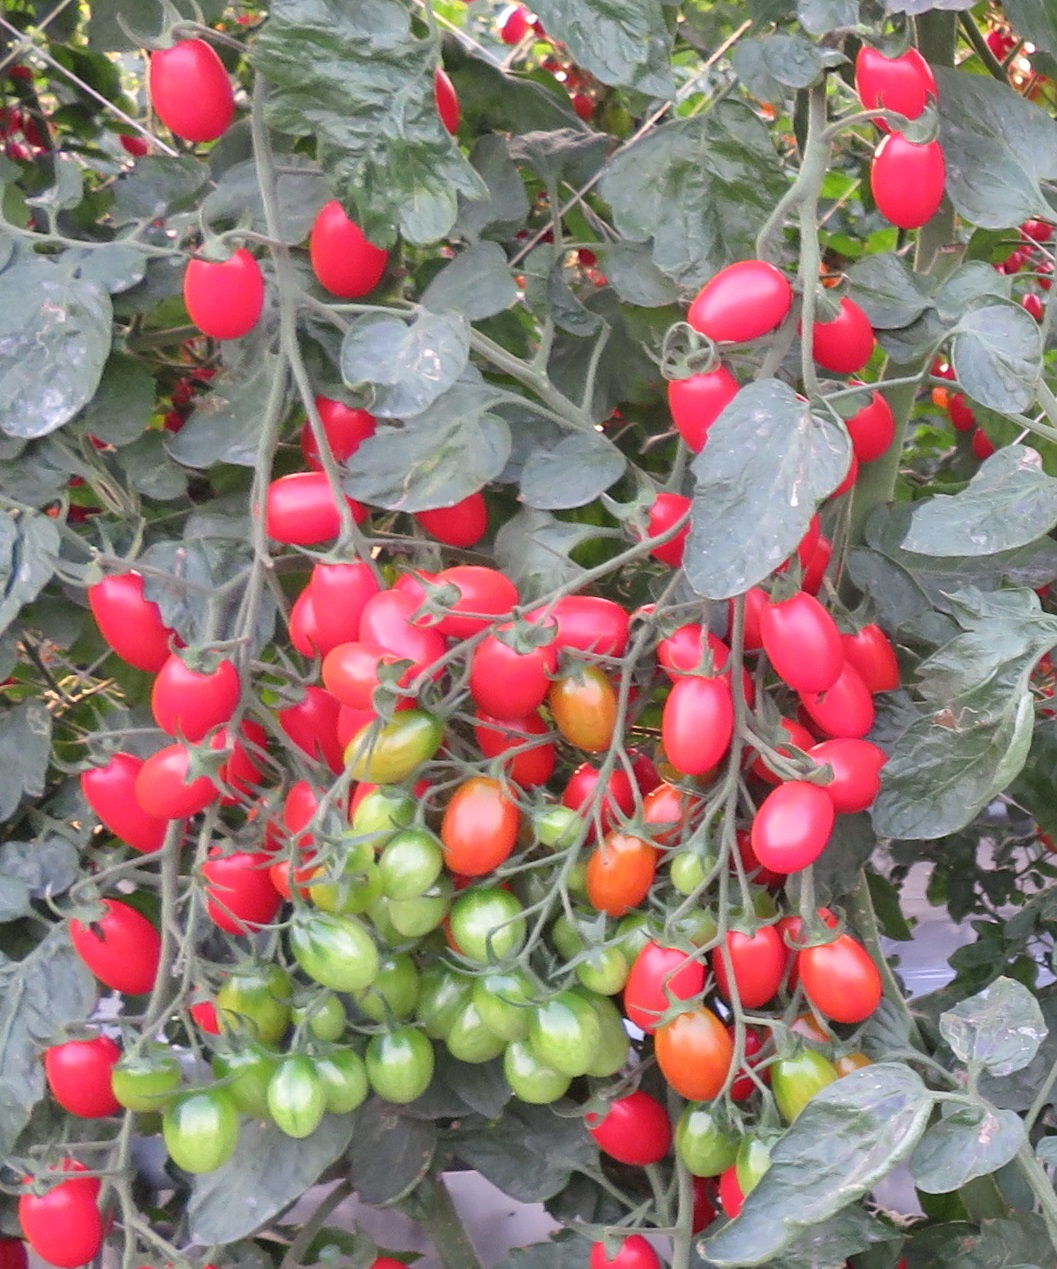green: (341, 711, 451, 789), (291, 921, 392, 990), (444, 889, 524, 967), (167, 1098, 238, 1182), (772, 1052, 846, 1122), (366, 1027, 432, 1105), (267, 1060, 320, 1144), (372, 842, 436, 909), (469, 971, 530, 1038), (111, 1059, 175, 1119), (534, 992, 583, 1071), (679, 1110, 728, 1179), (351, 796, 412, 850), (442, 1000, 492, 1059), (504, 1040, 550, 1102), (321, 1054, 367, 1117), (384, 896, 449, 931), (528, 804, 580, 846), (582, 952, 630, 994), (294, 993, 341, 1034), (669, 861, 722, 898)
orange: (787, 934, 890, 1023), (650, 1010, 733, 1105), (450, 769, 517, 875), (311, 631, 397, 710), (716, 929, 788, 1007), (591, 842, 653, 921), (557, 676, 621, 751), (637, 785, 707, 840)
red: (86, 559, 182, 673), (154, 32, 240, 150), (180, 236, 269, 343), (865, 126, 953, 234), (686, 256, 795, 341), (70, 900, 163, 997), (130, 738, 234, 822), (17, 1164, 109, 1260), (759, 585, 842, 690), (307, 190, 390, 294), (146, 656, 236, 750), (847, 40, 946, 123), (471, 622, 555, 719), (197, 844, 283, 938), (666, 672, 741, 780), (751, 781, 833, 879), (258, 473, 357, 551), (661, 365, 742, 456), (624, 936, 704, 1024), (807, 284, 883, 375), (588, 1085, 676, 1164), (526, 593, 632, 657), (83, 751, 140, 860), (411, 567, 517, 625), (300, 394, 376, 473), (799, 666, 878, 738), (559, 759, 637, 829), (304, 564, 370, 644), (808, 743, 890, 807), (831, 380, 895, 463), (361, 592, 437, 659), (42, 1032, 109, 1106), (632, 494, 699, 567), (845, 617, 904, 692), (282, 780, 337, 847), (419, 492, 486, 546), (586, 1229, 658, 1269), (437, 64, 461, 138), (947, 390, 972, 431), (1022, 292, 1043, 321)
